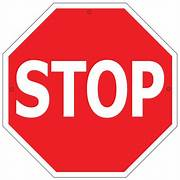stop: (2, 2, 178, 176)
